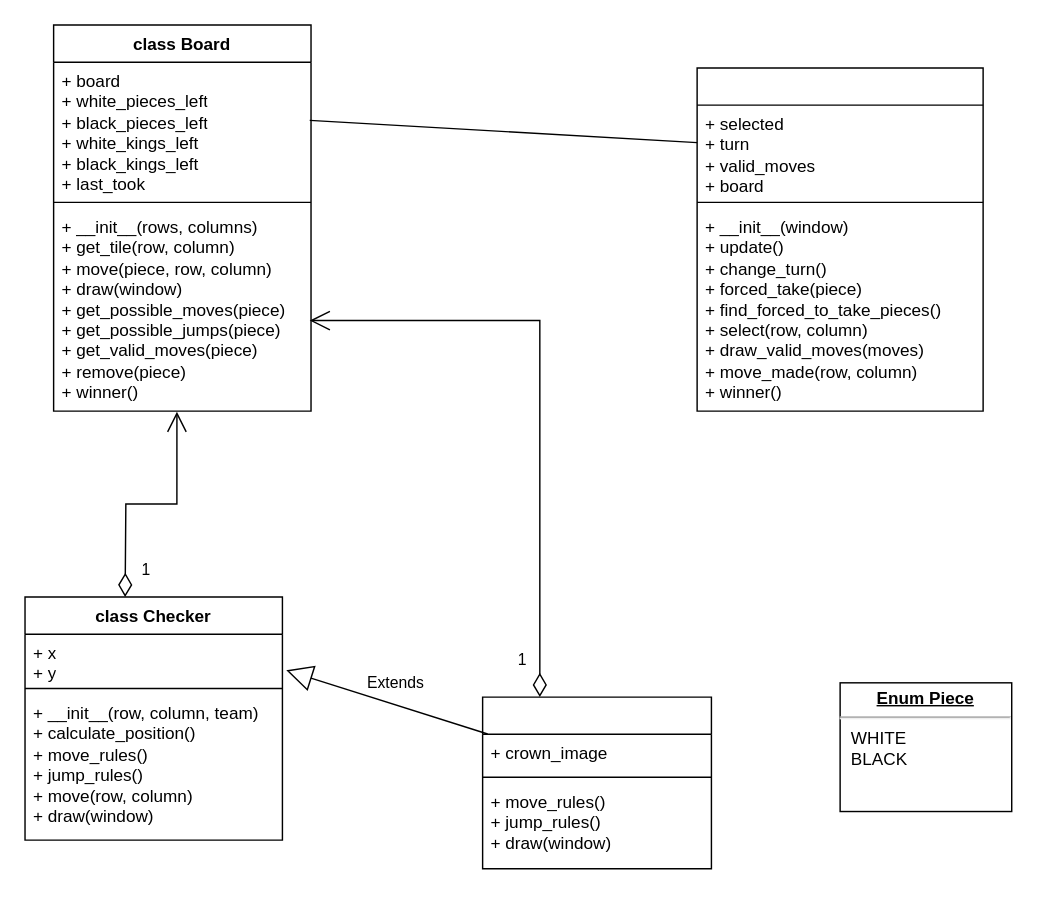
The diagram is 1037 pixels wide and 898 high, and some of its shapes have lost their labels. Each missing label, with the box of its shape:
class Game: (696, 66, 983, 411)
class King: (481, 696, 711, 869)
